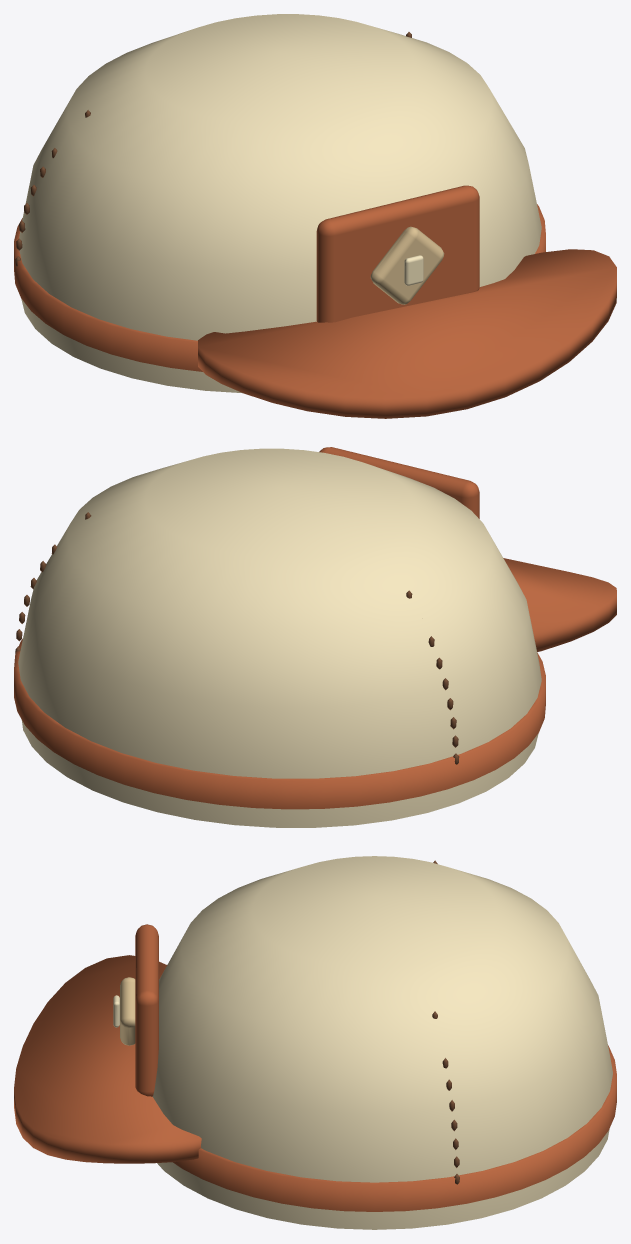
Rendered from 04-dust-road-trucker.glb.
The picture shows the model from 3 angles, top to bottom: view 1: azimuth 30°, elevation 25°; view 2: azimuth 150°, elevation 25°; view 3: azimuth 270°, elevation 25°; orthographic projection. The views are drawn at different scales.
Visible parts, largest first — view 1: Hat04_Crown1, Hat04_Visor2, Hat04_FrontPanel4, Hat04_Band3, Hat04_Badge5, Hat04_BadgeMark6; view 2: Hat04_Crown1, Hat04_Band3, Hat04_Visor2, Hat04_FrontPanel4; view 3: Hat04_Crown1, Hat04_Visor2, Hat04_Band3, Hat04_FrontPanel4, Hat04_Badge5.
Boxes of the visible parts, box(x1,y1,x2,y2) form: Hat04_Crown1: box(19, 14, 541, 393); Hat04_Visor2: box(198, 249, 616, 418); Hat04_FrontPanel4: box(316, 185, 479, 322); Hat04_Band3: box(14, 204, 545, 371); Hat04_Badge5: box(370, 226, 444, 304); Hat04_BadgeMark6: box(404, 255, 423, 285); Hat04_Crown1: box(18, 448, 541, 827); Hat04_Band3: box(14, 638, 545, 809); Hat04_Visor2: box(503, 558, 616, 651); Hat04_FrontPanel4: box(319, 447, 479, 518); Hat04_Crown1: box(152, 856, 612, 1229); Hat04_Visor2: box(14, 955, 201, 1163); Hat04_Band3: box(173, 1045, 616, 1211); Hat04_FrontPanel4: box(135, 924, 158, 1096); Hat04_Badge5: box(120, 977, 135, 1045).
Bounding box in the file's own units: 0.616 × 0.295 × 0.7128.
